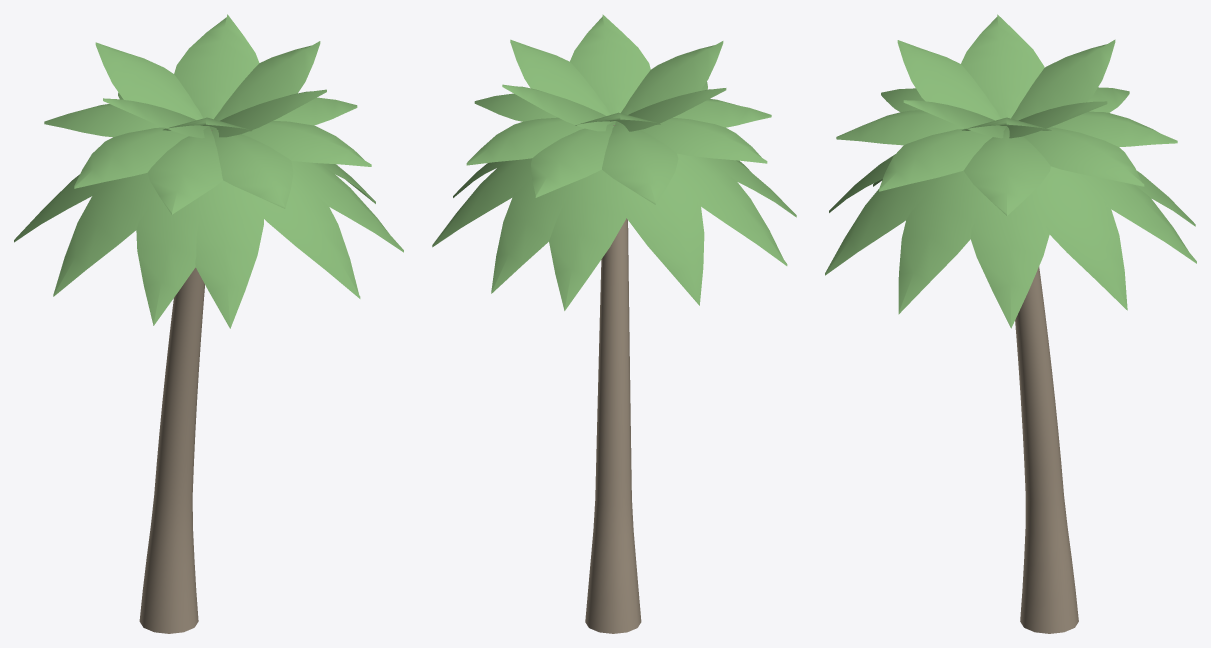
File: Palm_Phoenix_C.fbx
3 renders of one model, left to right at view 1: azimuth 30°, elevation 25°; view 2: azimuth 150°, elevation 25°; view 3: azimuth 270°, elevation 25°, orthographic. The views are drawn at different scales.
Visible parts, largest first — view 1: Palm_Canopy, Palm_Trunk; view 2: Palm_Canopy, Palm_Trunk; view 3: Palm_Canopy, Palm_Trunk.
Part boxes in pixels (x1=…): Palm_Canopy: x1=14, y1=14, x2=403, y2=328; Palm_Trunk: x1=139, y1=130, x2=212, y2=633; Palm_Canopy: x1=432, y1=14, x2=796, y2=310; Palm_Trunk: x1=585, y1=125, x2=641, y2=633; Palm_Canopy: x1=825, y1=14, x2=1196, y2=328; Palm_Trunk: x1=1015, y1=266, x2=1078, y2=633.
Bounding box in the file's own units: 8.17 × 13.09 × 7.84.
